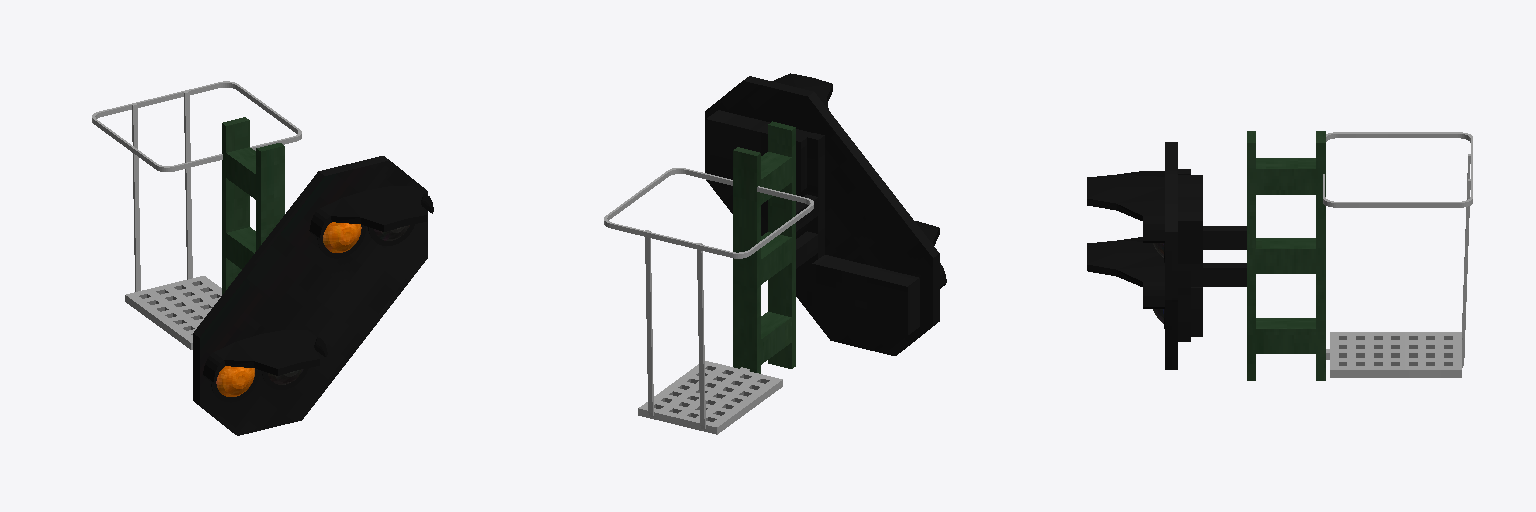
The picture shows the model from 3 angles: view 1: azimuth 30°, elevation 25°; view 2: azimuth 150°, elevation 25°; view 3: azimuth 270°, elevation 25°; orthographic projection.
Parts seen in each view (by area): view 1: HV_Vr; view 2: HV_Vr; view 3: HV_Vr.
Part boxes in pixels (x1,y1,x2,y2): HV_Vr: (92, 81, 433, 435); HV_Vr: (604, 73, 946, 434); HV_Vr: (1087, 131, 1472, 380).
Bounding box in the file's own units: 1 × 1 × 1.47.
Materials: 1 (1 with a texture image).